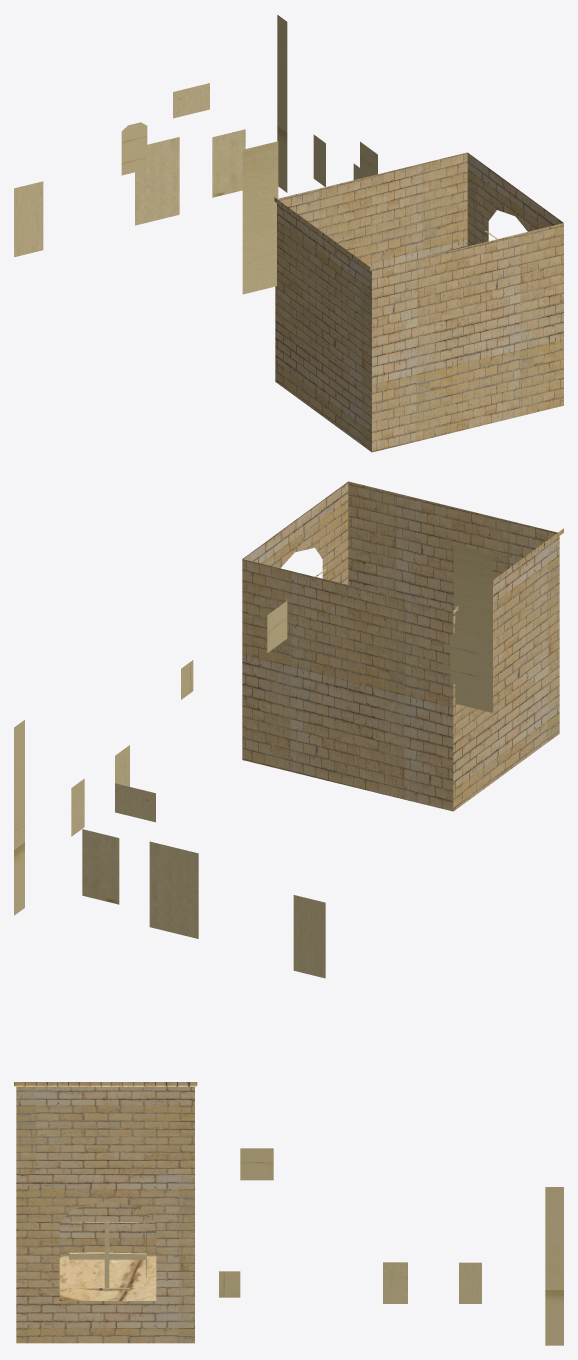
File: catedral16¿4y16...bx.fbx
3 views of the same model, one above another, from view 1: azimuth 30°, elevation 25°; view 2: azimuth 150°, elevation 25°; view 3: azimuth 270°, elevation 25° (orthographic). The views are drawn at different scales.
Parts seen in each view (by area): view 1: Cube.013, Cube.083; view 2: Cube.013, Cube.083; view 3: Cube.013, Cube.083, Cube.082.
Part boxes in pixels (box(x1,y1,x2,y2)): Cube.013: box(274, 152, 563, 452); Cube.083: box(14, 15, 377, 294); Cube.013: box(242, 481, 563, 811); Cube.083: box(14, 544, 492, 978); Cube.013: box(14, 1082, 197, 1343); Cube.083: box(219, 1148, 563, 1345); Cube.082: box(69, 1221, 146, 1291).
Bounding box in the file's own units: 5646 × 4177 × 9293.
